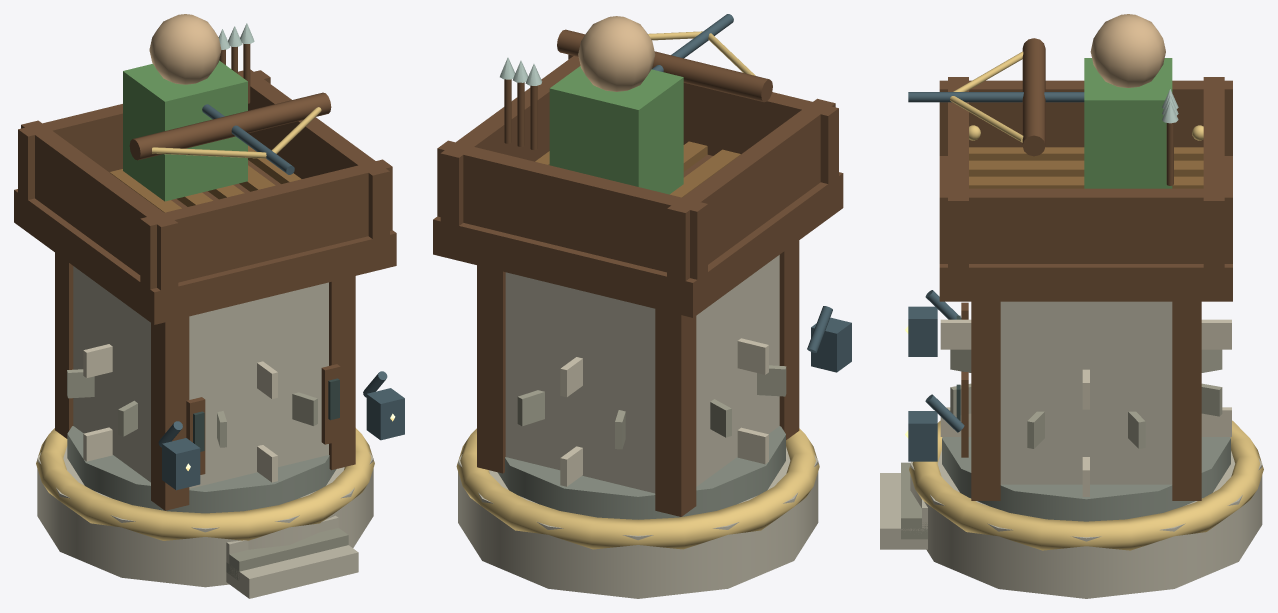
The model's file is tower-arrow-1-base.glb.
3 renders of one model, left to right at view 1: azimuth 30°, elevation 25°; view 2: azimuth 150°, elevation 25°; view 3: azimuth 270°, elevation 25°, orthographic. The views are drawn at different scales.
Parts seen in each view (by area): view 1: Turret, Foundation, arrow-L1-base; view 2: Turret, Foundation, arrow-L1-base; view 3: Turret, Foundation, arrow-L1-base.
Part boxes in pixels (box(x1,y1,x2,y2)): Turret: box(14, 14, 396, 324); Foundation: box(36, 252, 404, 598); arrow-L1-base: box(37, 426, 373, 587); Turret: box(433, 14, 843, 317); Foundation: box(456, 240, 851, 549); arrow-L1-base: box(458, 426, 818, 598); Turret: box(908, 14, 1232, 301); Foundation: box(880, 290, 1263, 550); arrow-L1-base: box(910, 437, 1262, 598).
Bounding box in the file's own units: 1.69 × 2.67 × 1.83.
